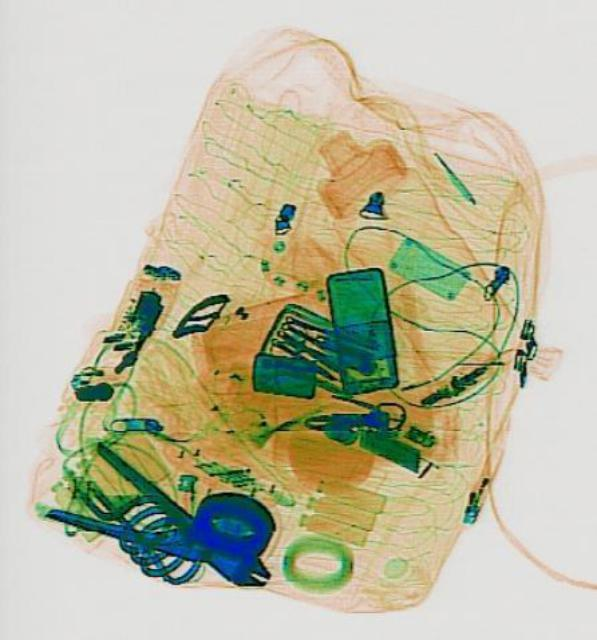Pliers: (41, 432, 289, 624)
